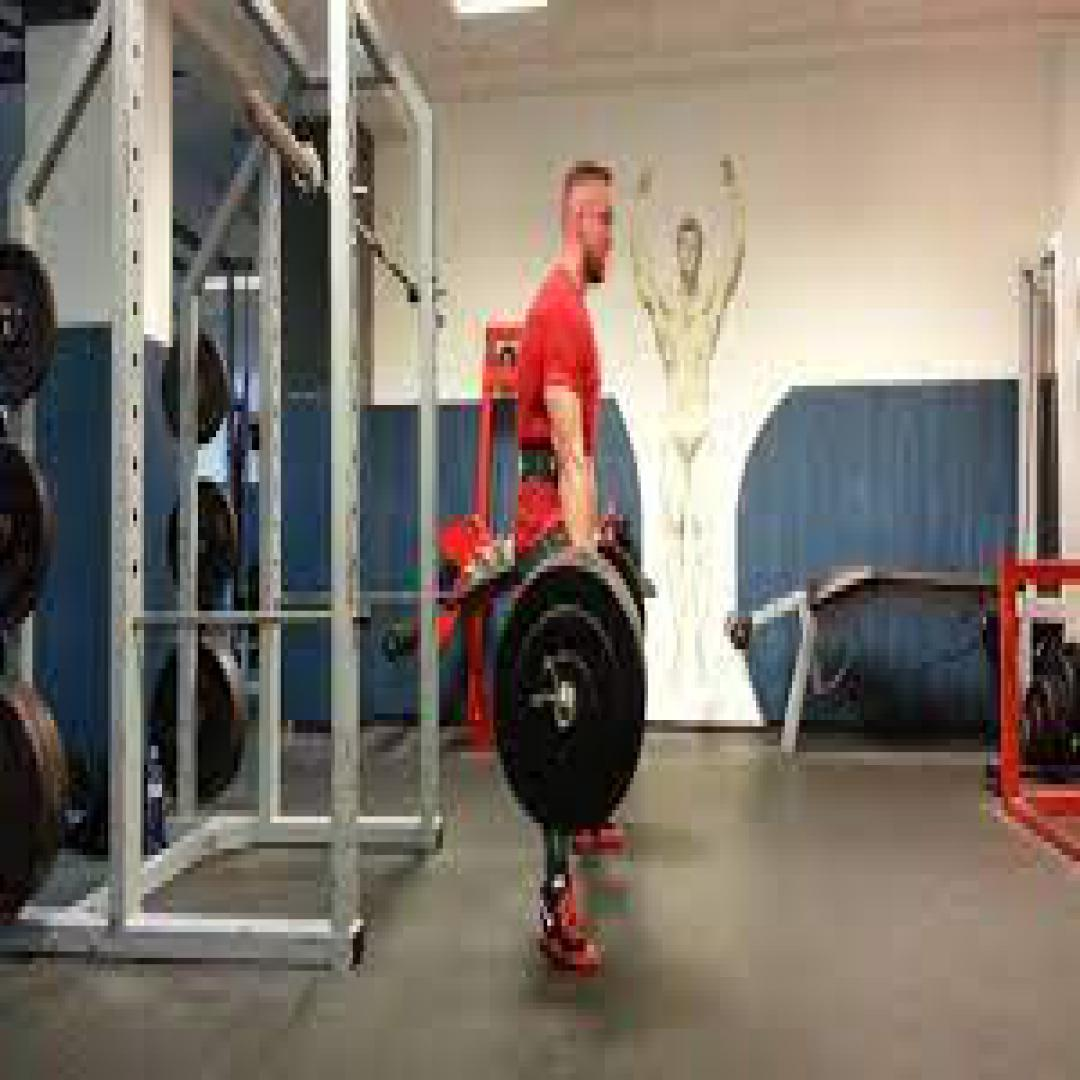Bar: (550, 688, 580, 733)
Barbell: (497, 566, 644, 829)
